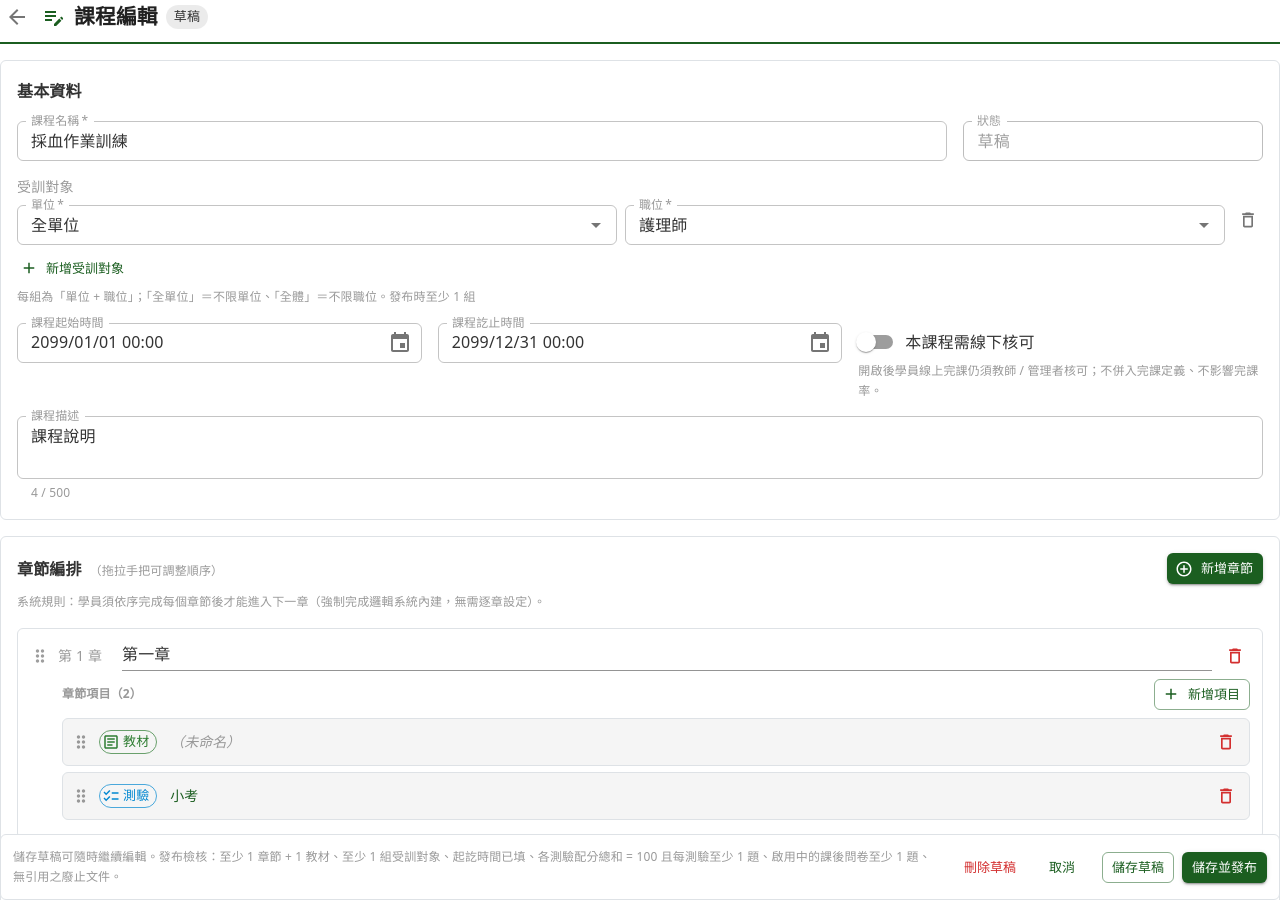
Test: ET05 發布缺漏：視窗 → 紅框（#558） › 前端錯誤與後端缺漏合併在同一個視窗，且表單有錯時不存檔（AC 1）
Clear the field showing "採血作業訓練" at (482, 141), box [17,121,948,161]
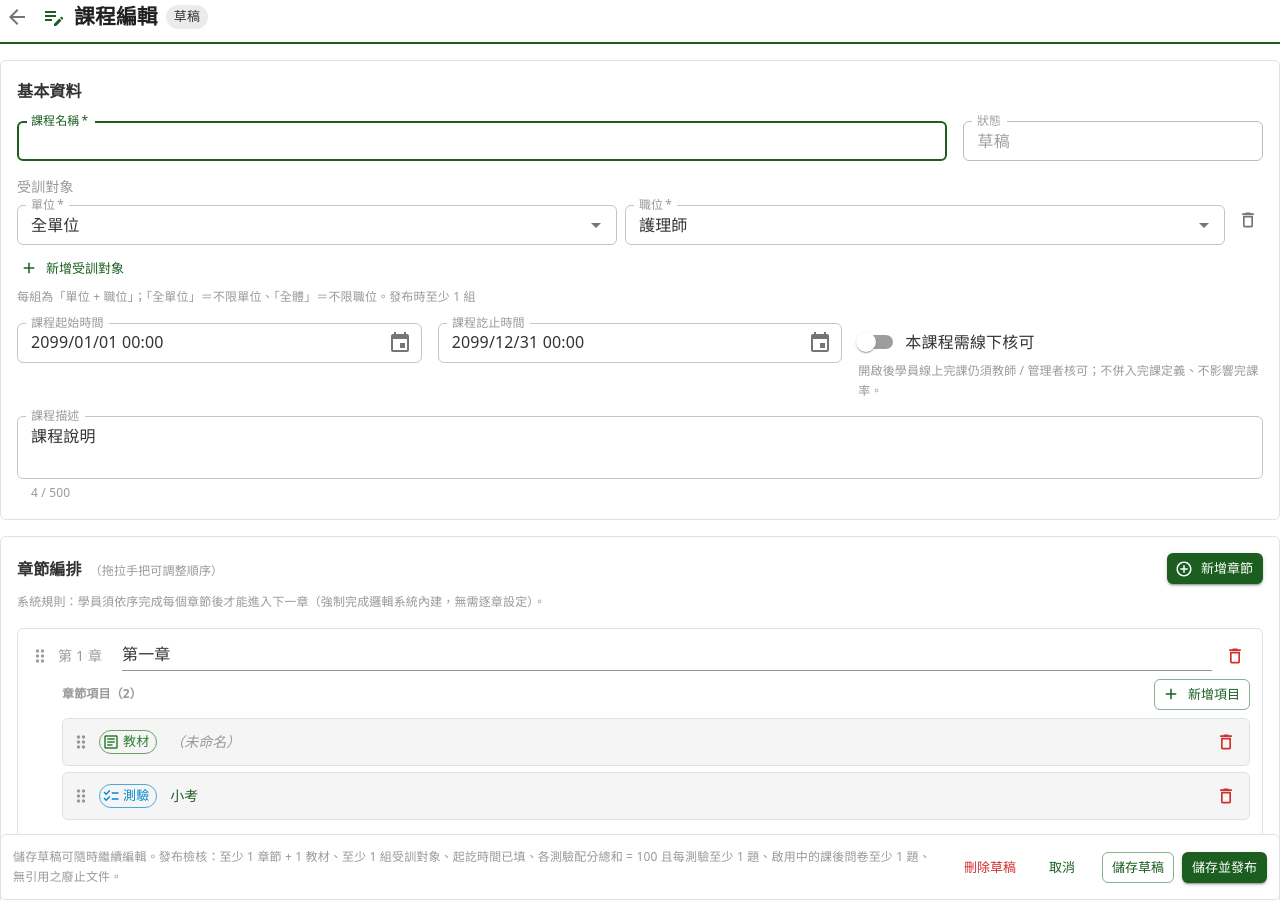
Click the button "儲存並發布" at (1224, 867), box [1182,852,1267,882]
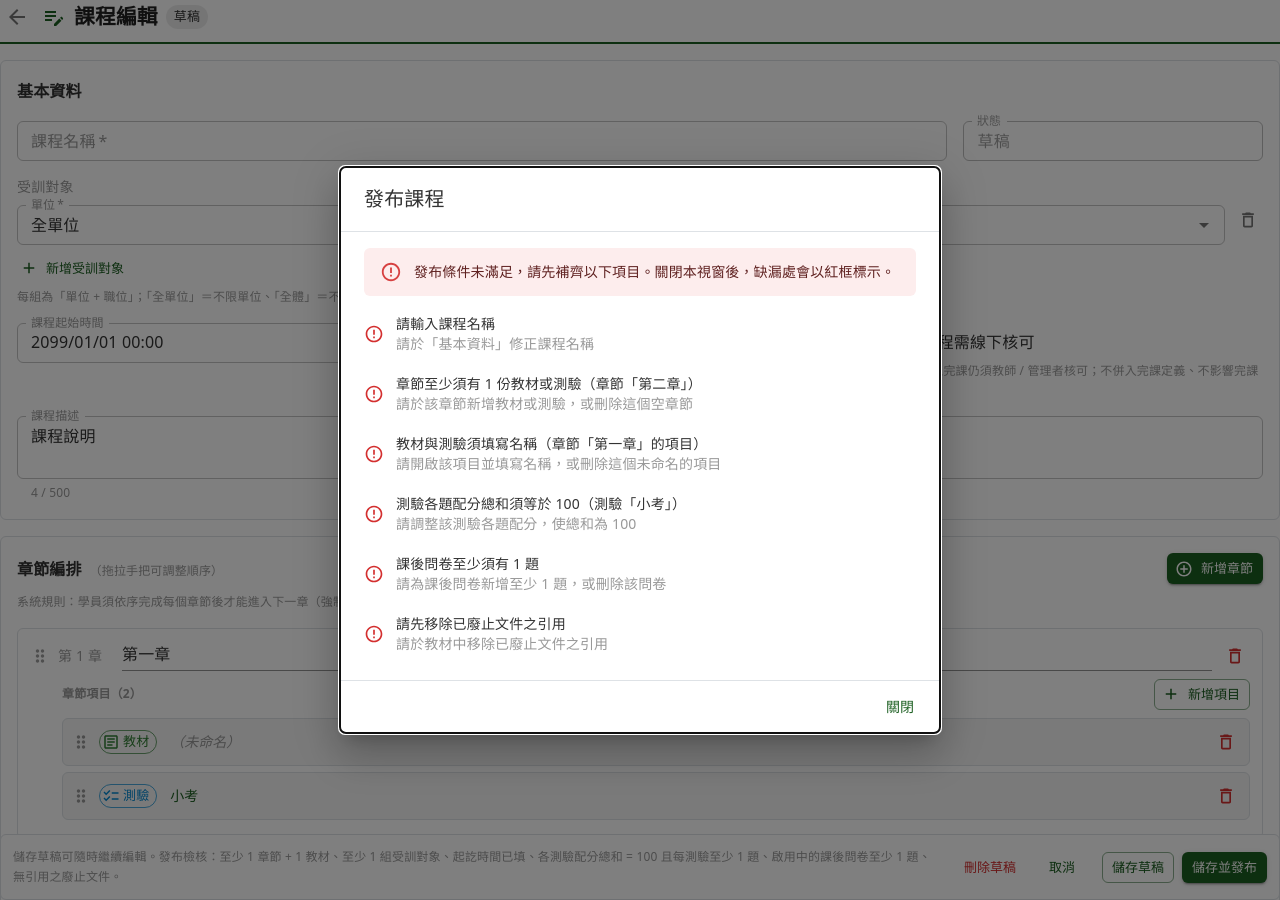
expect the text "請輸入課程名稱" is shown: met, box [396,314,495,333]
expect the text "章節至少須有 1 份教材或測驗（章節「第二章」）" is shown: met, box [396,374,702,393]
expect the text "請先移除已廢止文件之引用" is shown: met, box [396,614,566,633]
